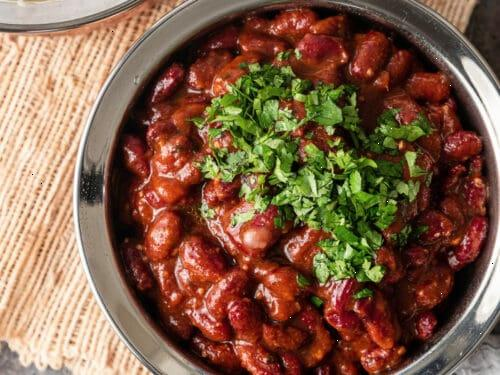rajma: (124, 14, 480, 373)
